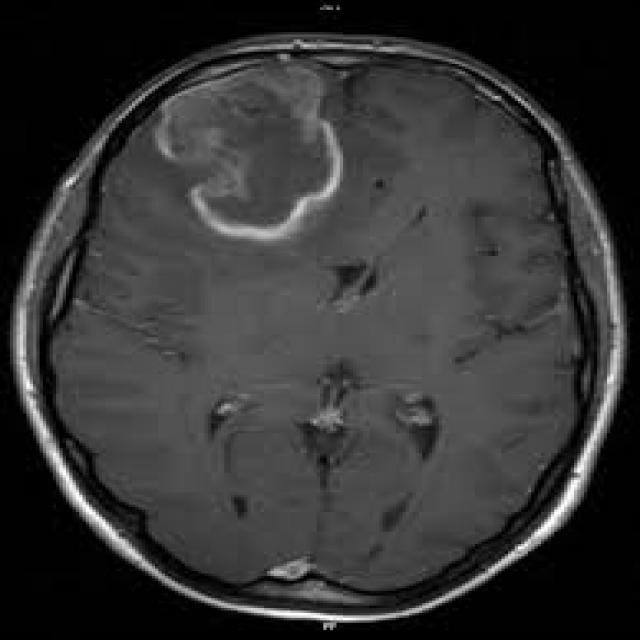Tumor: (156, 63, 345, 247)
